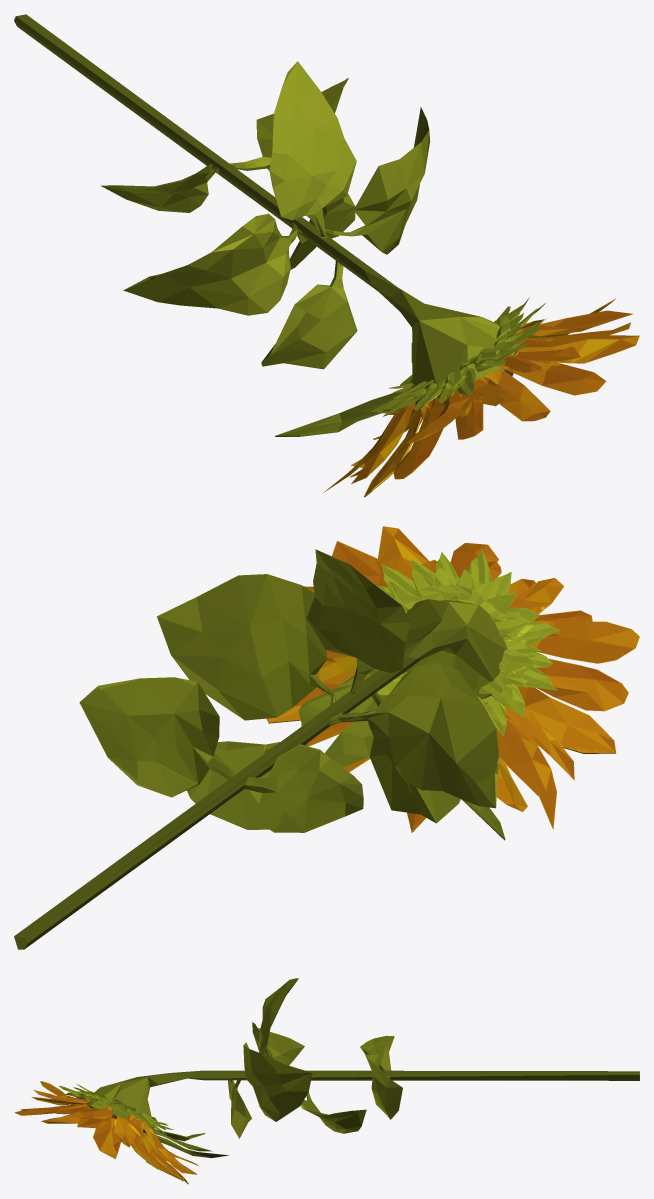
File: Sunflower - low poly.obj
The picture shows the model from 3 angles, top to bottom: view 1: azimuth 30°, elevation 25°; view 2: azimuth 150°, elevation 25°; view 3: azimuth 270°, elevation 25°; orthographic projection. The views are drawn at different scales.
Visible parts, largest first — view 1: Object.1; view 2: Object.1; view 3: Object.1.
Boxes of the visible parts, x1=… form: Object.1: x1=14, y1=14, x2=639, y2=497; Object.1: x1=14, y1=526, x2=639, y2=949; Object.1: x1=14, y1=978, x2=639, y2=1184.
Bounding box in the file's own units: 28.93 × 24.94 × 70.62.
Materials: 1 (1 with a texture image).
